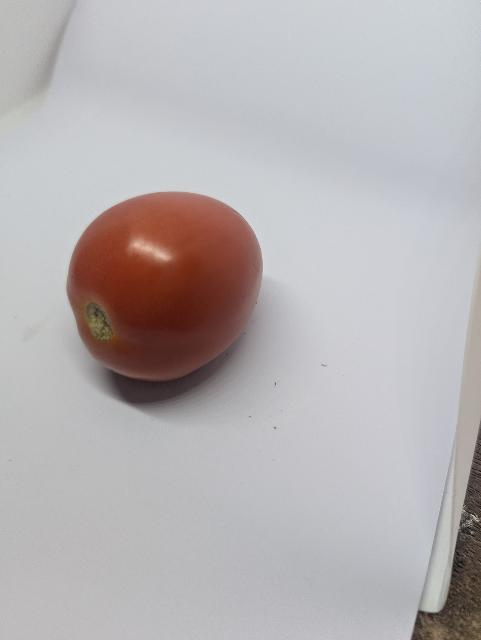red: (59, 185, 278, 391)
